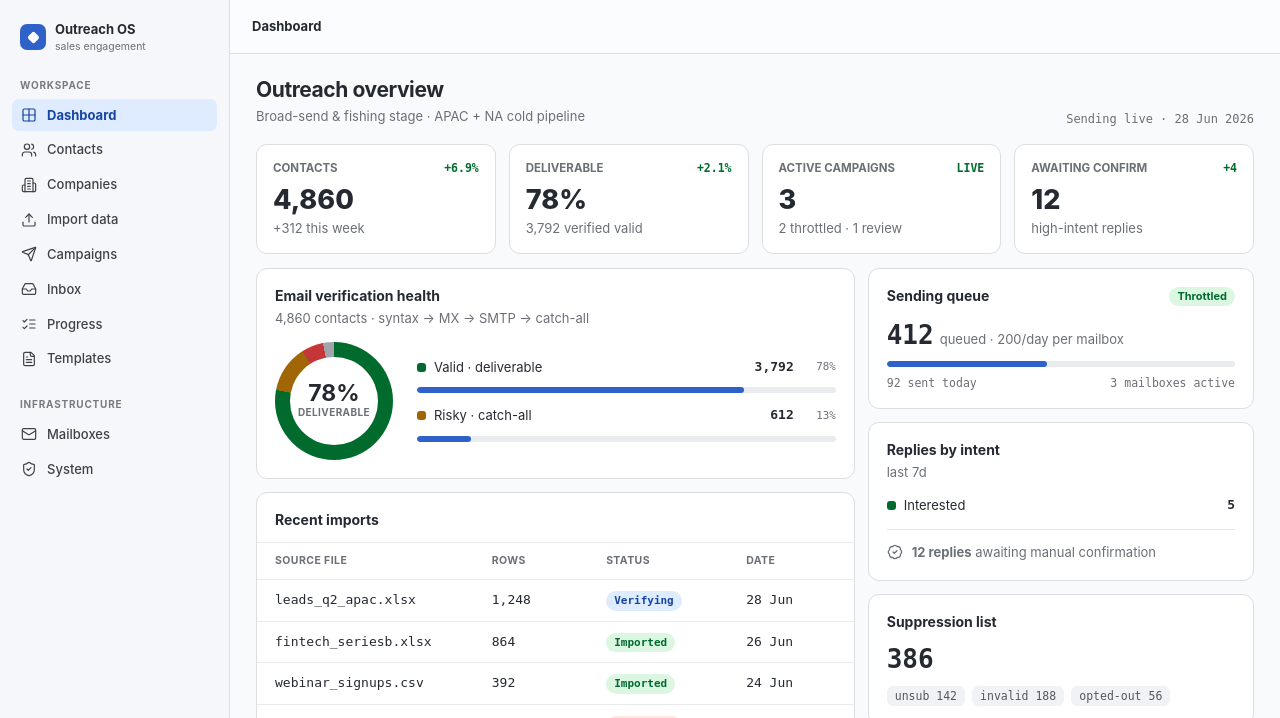
Outreach OS shell › shows template lifecycle status and edit lock separately
Click the button "Templates" at (114, 359), box [12,342,217,375]
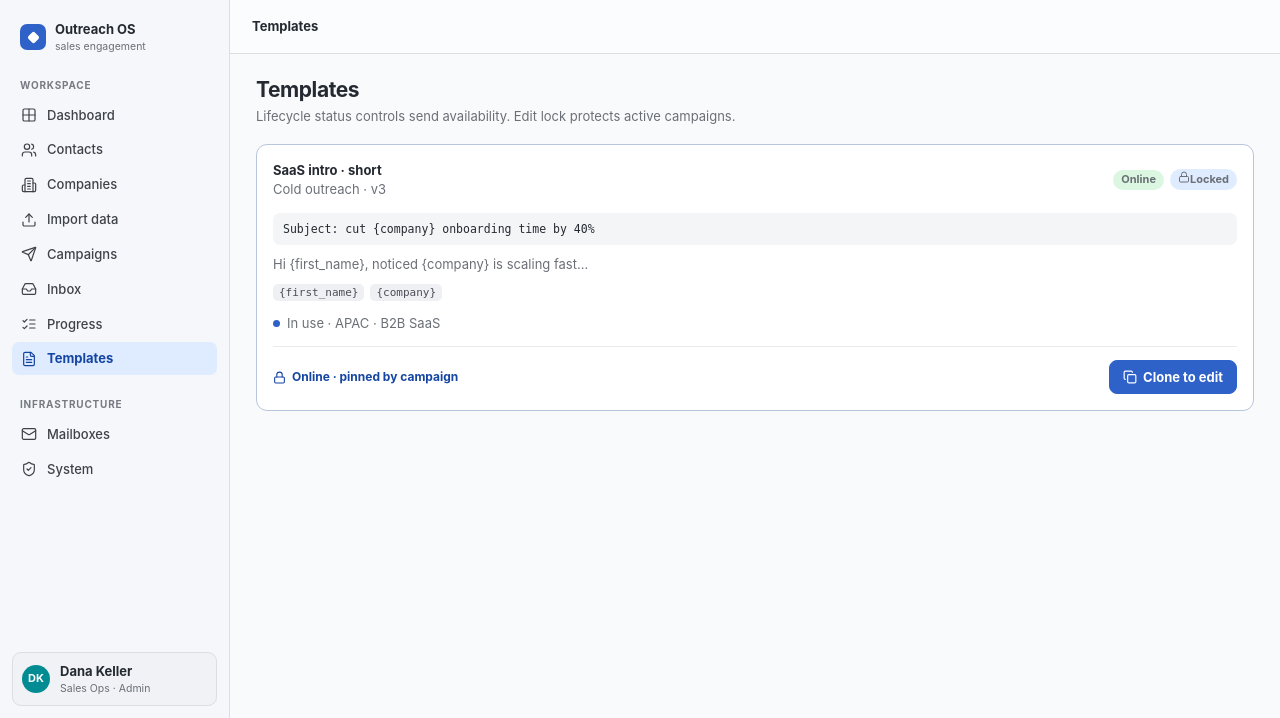
Now the heading "Templates" is shown, box [256,77,359,102]
Now the text "Online" is shown, box [1113,170,1164,190]
Now the text "Locked" is shown, box [1170,169,1237,190]
